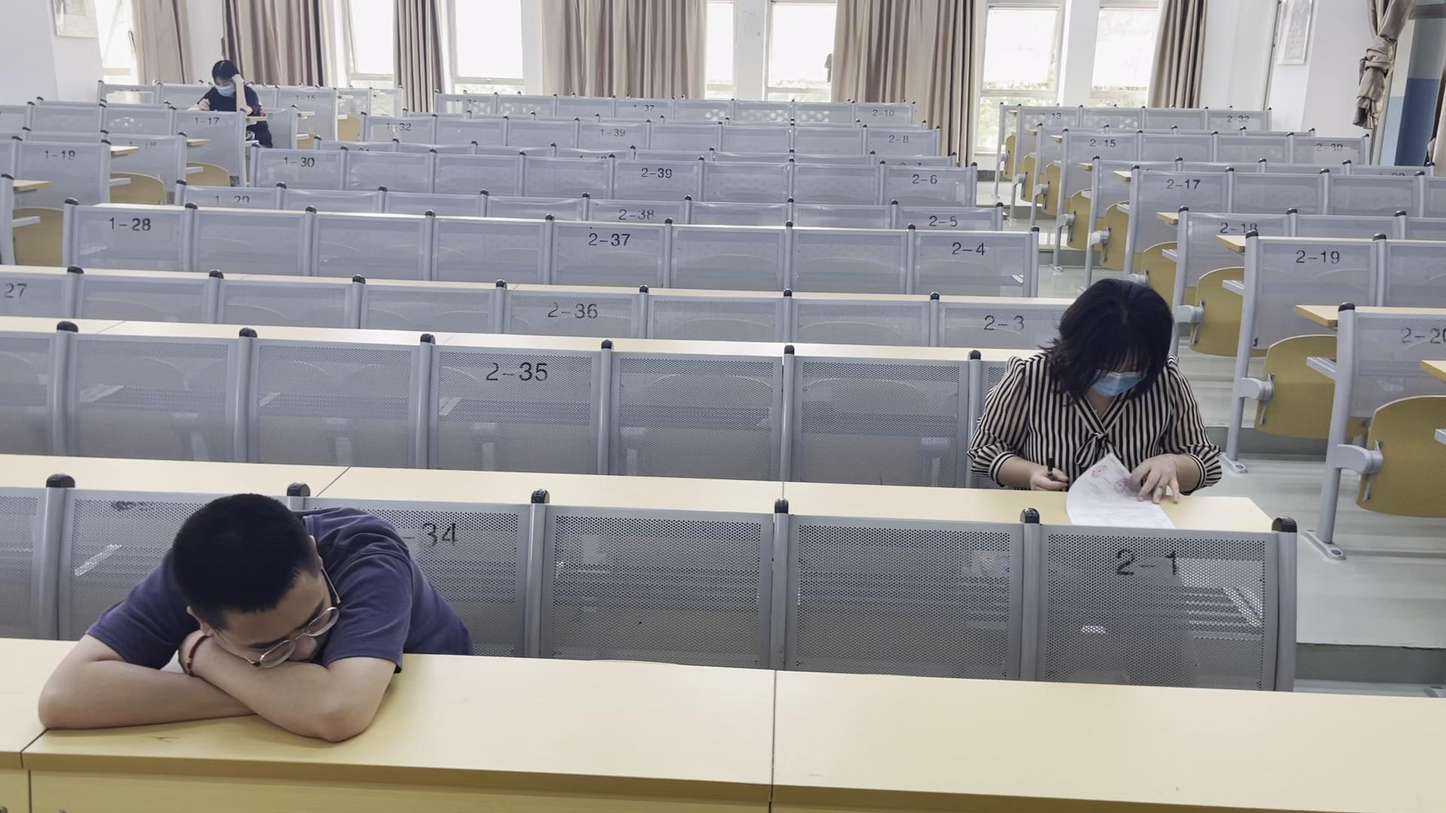sleep: (35, 493, 456, 738)
study: (976, 285, 1216, 496), (201, 56, 258, 111)
